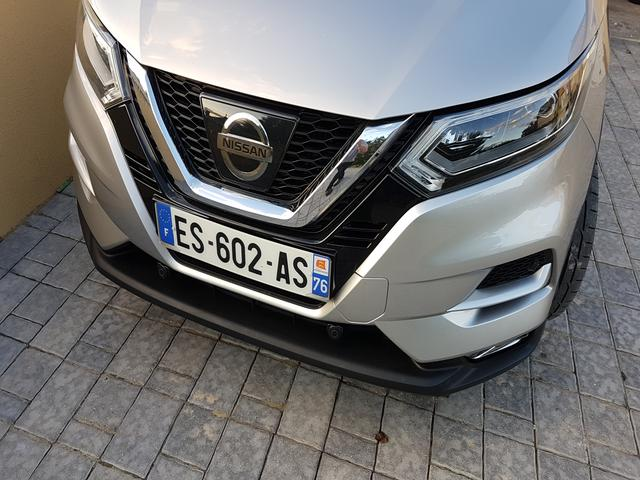Quashquai: (144, 184, 357, 324)
